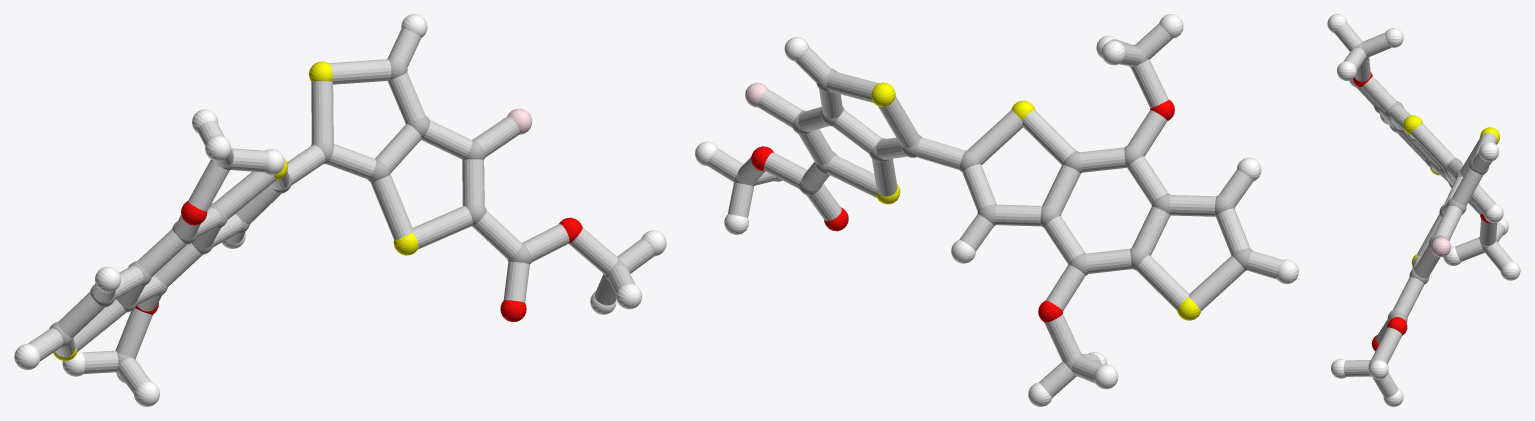
The model's file is Dimethoxy_Benzodithiophene_Phi_15_Theta_110_Methylcarbonyl_3_Fluoro_Thienothiophene.glb.
The picture shows the model from 3 angles, left to right: view 1: azimuth 30°, elevation 25°; view 2: azimuth 150°, elevation 25°; view 3: azimuth 270°, elevation 25°; orthographic projection. The views are drawn at different scales.
Visible parts, largest first — view 1: grp15205, grp8689, grp1, grp13395, grp7241; view 2: grp15205, grp8689, grp1, grp7241, grp13395; view 3: grp15205, grp8689, grp1, grp13395, grp7241, grp14843.
Boxes of the visible parts, x1,y1,x2,y2 form: grp15205: [28, 28, 654, 393]; grp8689: [14, 14, 666, 406]; grp1: [49, 58, 626, 372]; grp13395: [135, 201, 582, 321]; grp7241: [53, 61, 418, 360]; grp15205: [707, 23, 1282, 397]; grp8689: [695, 14, 1298, 406]; grp1: [734, 45, 1252, 371]; grp7241: [871, 82, 1200, 320]; grp13395: [751, 99, 1174, 322]; grp15205: [1334, 22, 1512, 397]; grp8689: [1327, 14, 1520, 406]; grp1: [1354, 42, 1497, 376]; grp13395: [1353, 72, 1491, 351]; grp7241: [1403, 115, 1499, 265]; grp14843: [1431, 237, 1450, 257].
Size of the model in its own units: 16.93 by 8.46 by 5.78.
